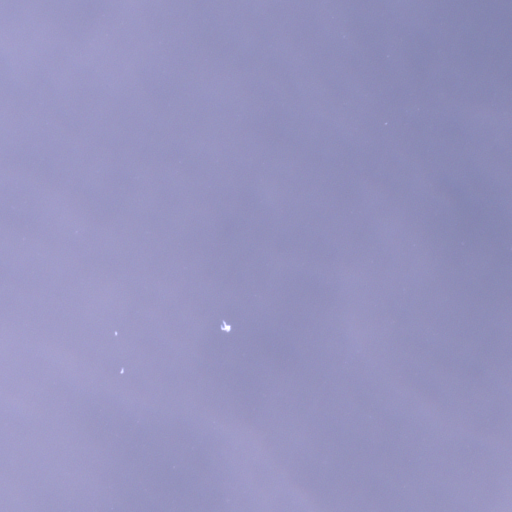Iceberg: (221, 320, 230, 332), (120, 368, 123, 373), (115, 331, 116, 335), (385, 123, 386, 124)
